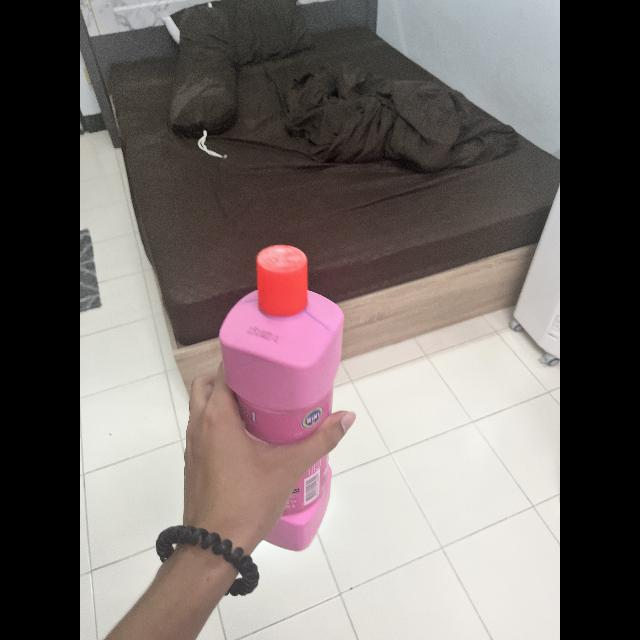chemical_plastic_bottle: (219, 240, 345, 554)
